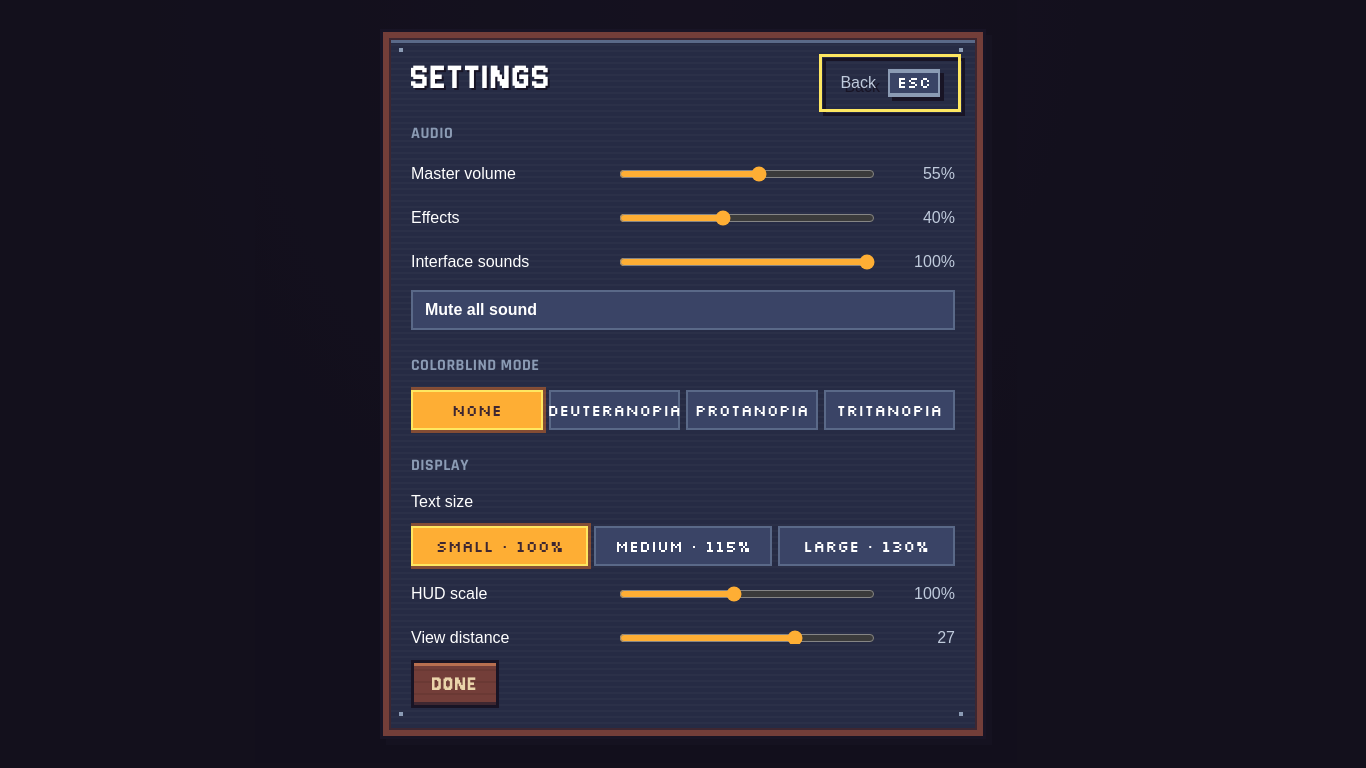
SettingsPanel › sets the HUD scale from 80% to 125%, kept on this device
The image size is (1366, 768).
Expected: the text with test id "hud-scale-value" reads "100%", top-left (914, 585), bottom-right (955, 602)
Set the slider with test id "hud-scale" to "110" at [787, 594], box top-left (619, 578), bottom-right (875, 610)
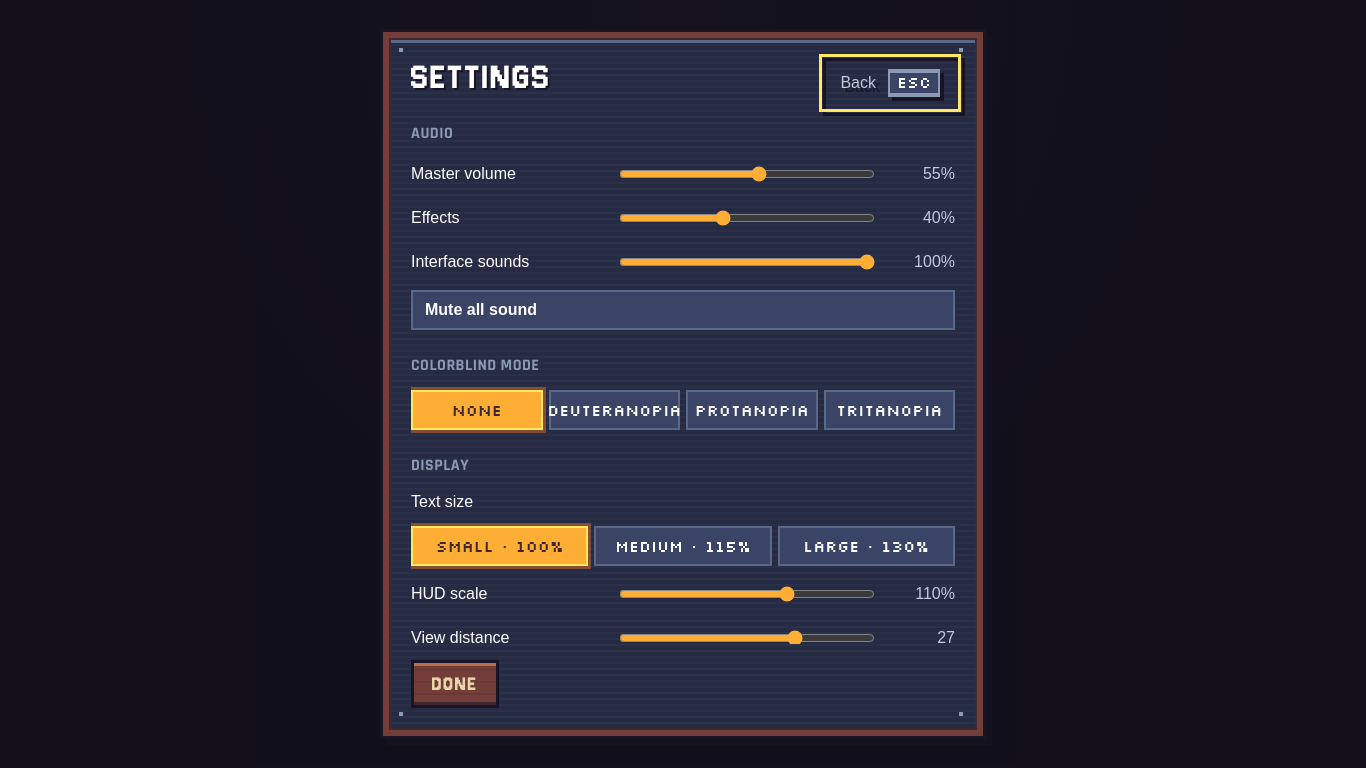
Expected: the text with test id "hud-scale-value" reads "110%", top-left (915, 585), bottom-right (955, 602)
